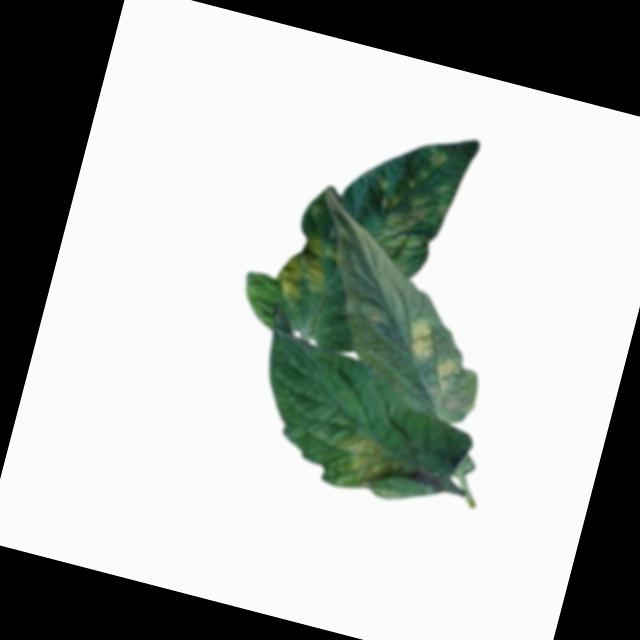Leaf_Mold: (272, 225, 341, 310), (334, 425, 413, 498), (370, 198, 437, 266), (401, 309, 446, 367), (431, 351, 468, 395)
